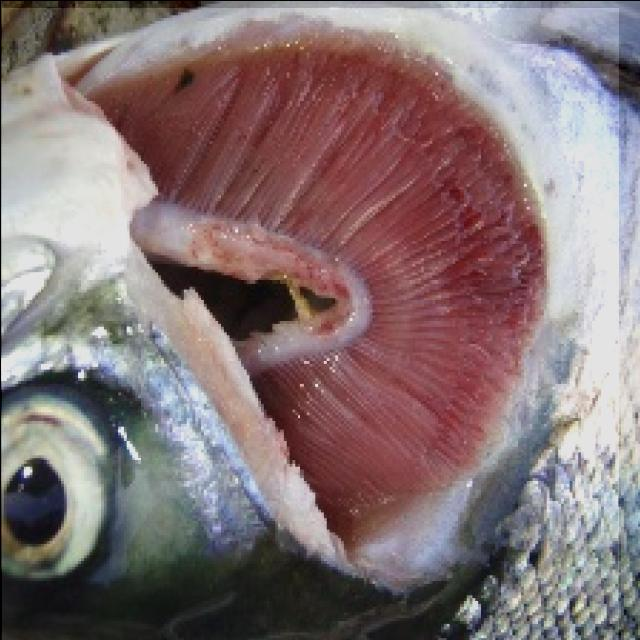Gill Disease: (1, 7, 618, 640)
